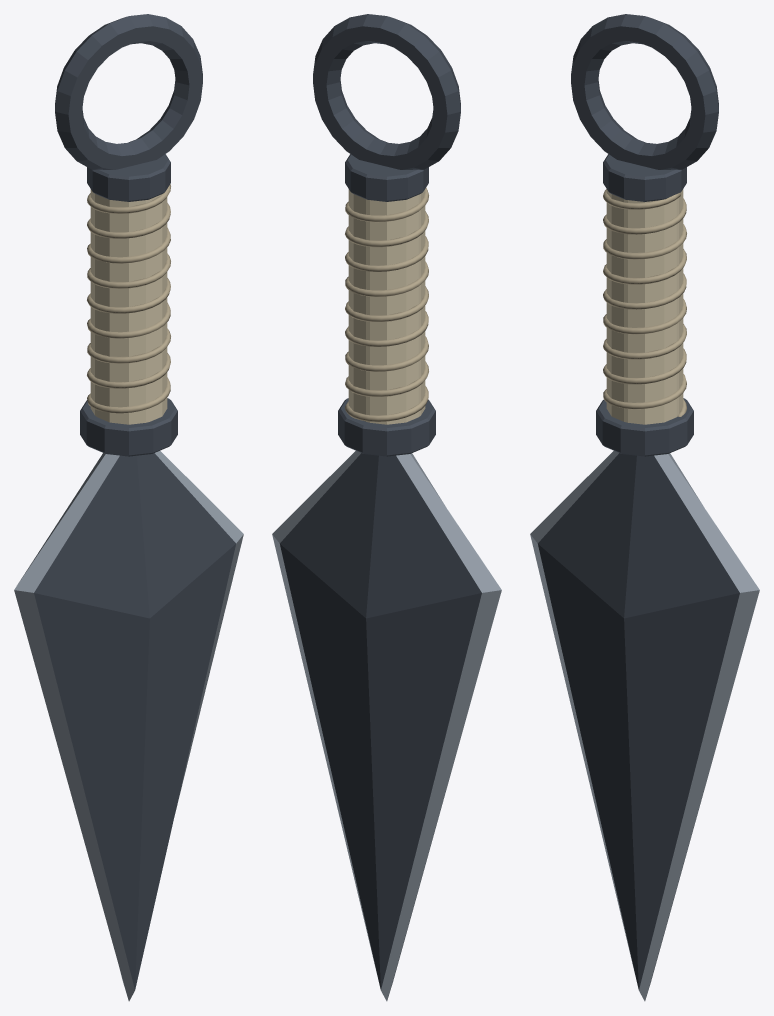
File: Kunai.fbx
The picture shows the model from 3 angles, left to right: view 1: azimuth 30°, elevation 25°; view 2: azimuth 150°, elevation 25°; view 3: azimuth 330°, elevation 25°; orthographic projection.
Visible parts, largest first — view 1: Blade, Grip core, Pommel ring, Cloth wrap seam, Blade collar, Ring collar; view 2: Blade, Grip core, Pommel ring, Cloth wrap seam, Blade collar, Ring collar; view 3: Blade, Grip core, Pommel ring, Cloth wrap seam, Blade collar, Ring collar.
Part boxes in pixels (<box>): Blade: <box>14,451,243,1001</box>; Grip core: <box>90,189,167,424</box>; Pommel ring: <box>55,14,202,169</box>; Cloth wrap seam: <box>87,184,170,413</box>; Blade collar: <box>80,398,177,456</box>; Ring collar: <box>87,154,170,201</box>; Blade: <box>272,451,501,1001</box>; Grip core: <box>348,189,425,424</box>; Pommel ring: <box>313,14,460,169</box>; Cloth wrap seam: <box>345,187,428,421</box>; Blade collar: <box>338,398,435,456</box>; Ring collar: <box>345,154,428,201</box>; Blade: <box>530,451,759,1001</box>; Grip core: <box>606,189,683,424</box>; Pommel ring: <box>571,14,718,169</box>; Cloth wrap seam: <box>603,189,686,416</box>; Blade collar: <box>596,398,693,456</box>; Ring collar: <box>603,154,686,201</box>.
Bounding box in the file's own units: 7.6 × 31.15 × 2.8.
